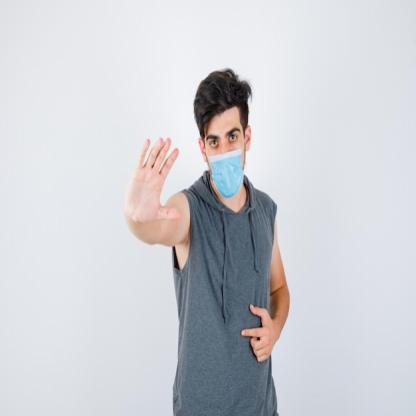stop: (124, 130, 184, 226)
